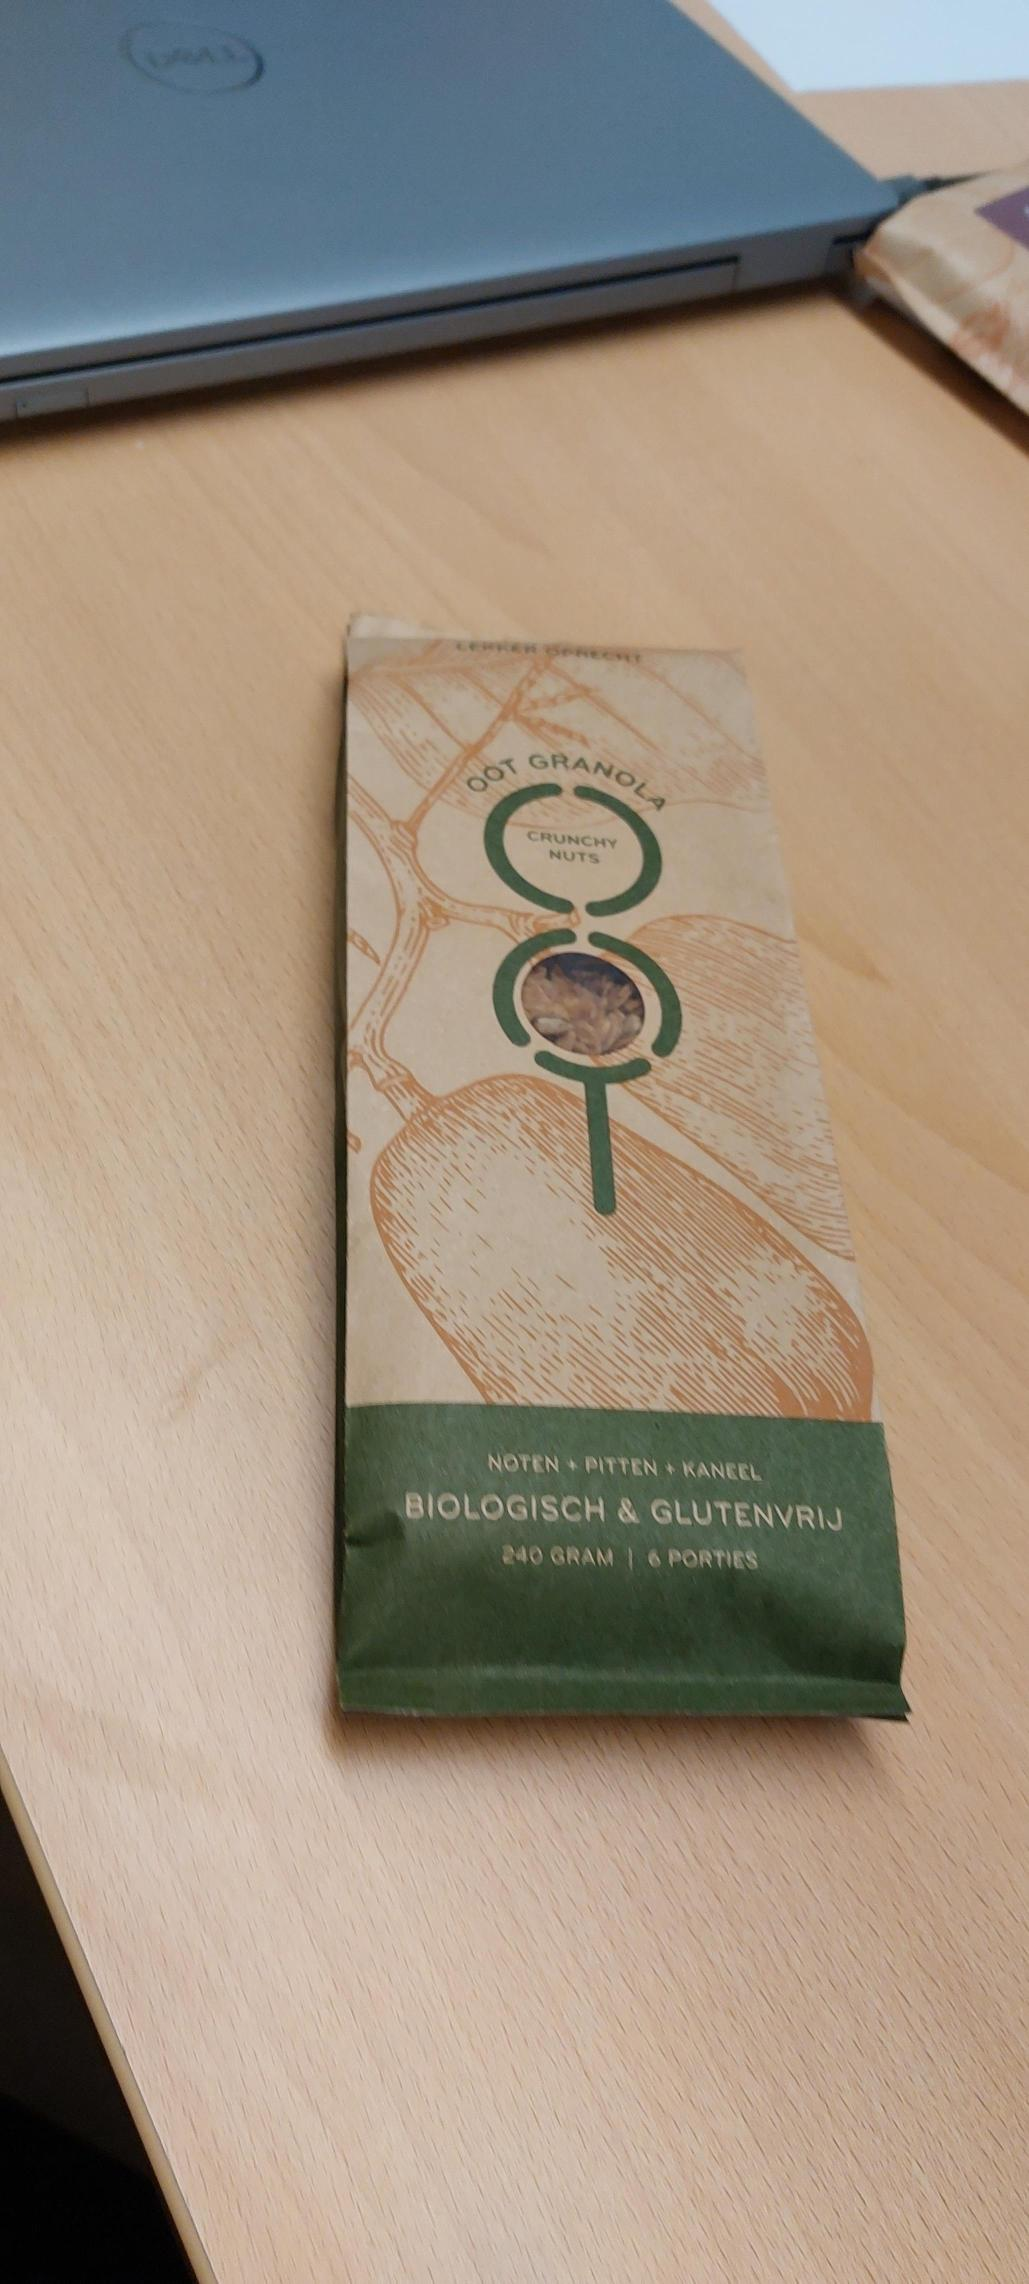CrunchyNuts: (348, 645, 872, 1666)
